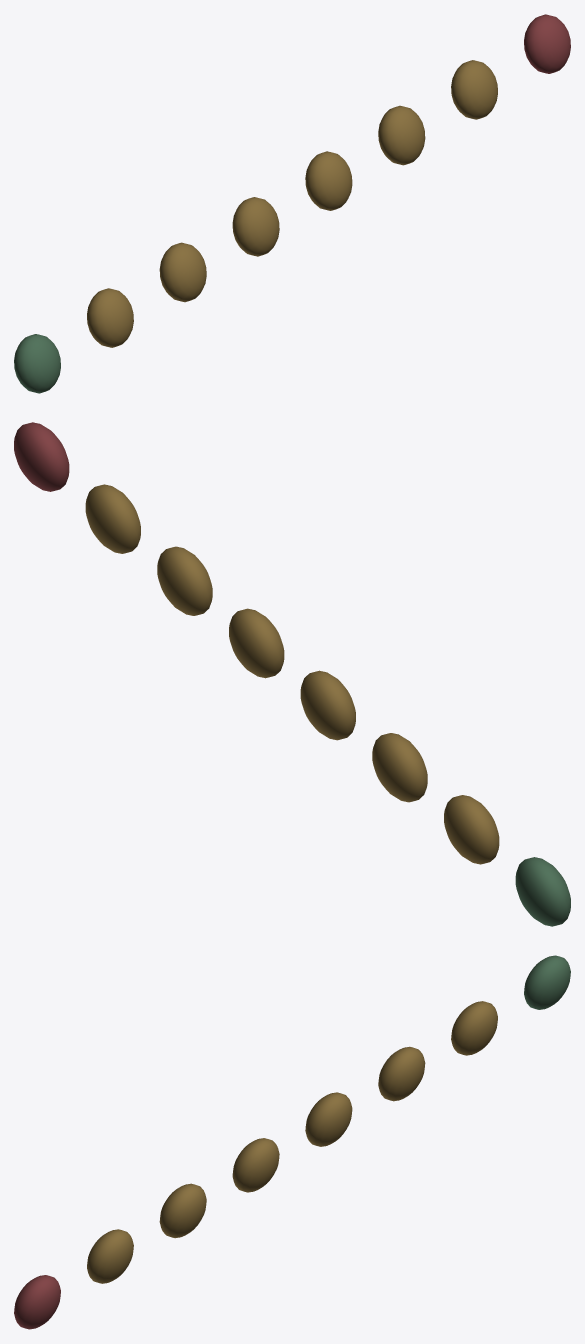
Rendered from lamps.glb.
3 renders of one model, top to bottom at view 1: azimuth 90°, elevation 25°; view 2: azimuth 150°, elevation 25°; view 3: azimuth 270°, elevation 25°, orthographic. The views are drawn at different scales.
Visible parts, largest first — view 1: kvs_lamp_3, kvs_lamp_4, kvs_lamp_1, kvs_lamp_6, kvs_lamp_2, kvs_lamp_5, kvs_lamp_0, kvs_lamp_7; view 2: kvs_lamp_1, kvs_lamp_2, kvs_lamp_5, kvs_lamp_6, kvs_lamp_3, kvs_lamp_4, kvs_lamp_0, kvs_lamp_7; view 3: kvs_lamp_1, kvs_lamp_2, kvs_lamp_5, kvs_lamp_6, kvs_lamp_0, kvs_lamp_7, kvs_lamp_3, kvs_lamp_4.
Part boxes in pixels (left/top/right/bottom): kvs_lamp_3: left=232, top=197, right=279, bottom=256; kvs_lamp_4: left=305, top=151, right=352, bottom=210; kvs_lamp_1: left=87, top=288, right=133, bottom=347; kvs_lamp_6: left=451, top=60, right=497, bottom=119; kvs_lamp_2: left=159, top=242, right=206, bottom=302; kvs_lamp_5: left=378, top=105, right=425, bottom=165; kvs_lamp_0: left=14, top=334, right=60, bottom=393; kvs_lamp_7: left=524, top=14, right=570, bottom=73; kvs_lamp_1: left=444, top=795, right=499, bottom=864; kvs_lamp_2: left=372, top=733, right=427, bottom=802; kvs_lamp_5: left=157, top=546, right=212, bottom=615; kvs_lamp_6: left=85, top=484, right=140, bottom=553; kvs_lamp_3: left=300, top=670, right=355, bottom=740; kvs_lamp_4: left=229, top=608, right=284, bottom=678; kvs_lamp_0: left=515, top=857, right=570, bottom=926; kvs_lamp_7: left=14, top=422, right=69, bottom=491; kvs_lamp_1: left=451, top=1001, right=497, bottom=1055; kvs_lamp_2: left=378, top=1046, right=425, bottom=1101; kvs_lamp_5: left=159, top=1183, right=206, bottom=1238; kvs_lamp_6: left=87, top=1229, right=133, bottom=1283; kvs_lamp_0: left=524, top=955, right=570, bottom=1009; kvs_lamp_7: left=14, top=1275, right=60, bottom=1329; kvs_lamp_3: left=305, top=1092, right=352, bottom=1146; kvs_lamp_4: left=232, top=1138, right=279, bottom=1192.
Bounding box in the file's own units: 0.2488 × 0.0177 × 0.171.
